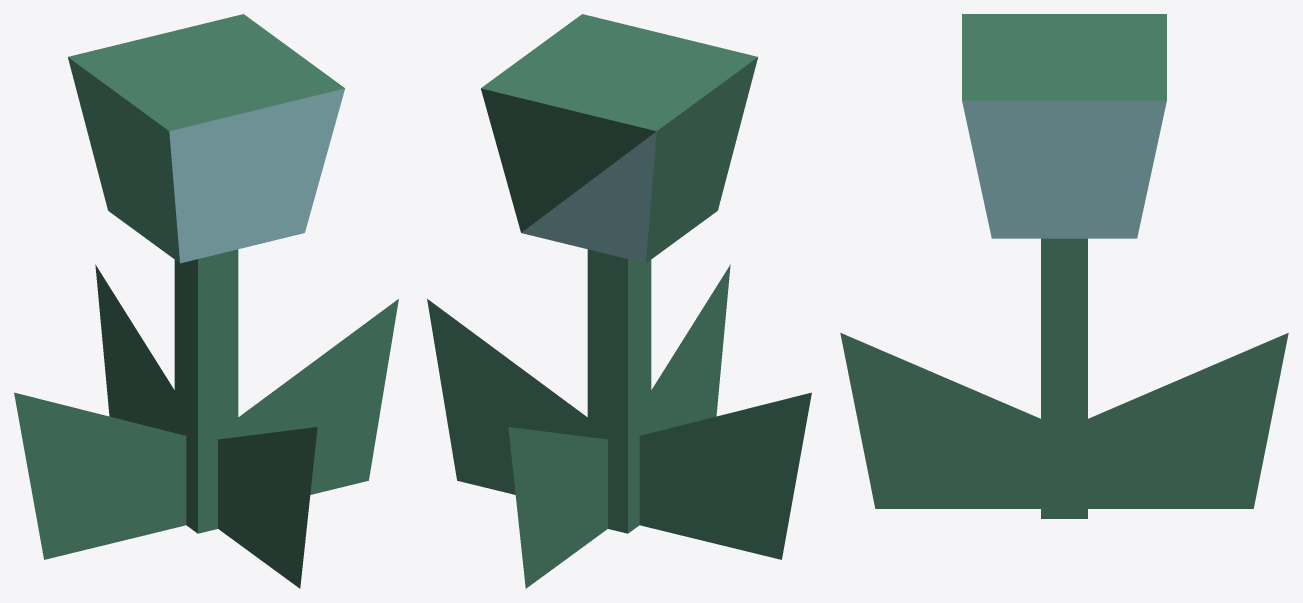
File: naturePack_flat_008.obj
3 renders of one model, left to right at view 1: azimuth 30°, elevation 25°; view 2: azimuth 150°, elevation 25°; view 3: azimuth 270°, elevation 25°, orthographic.
Visible parts, largest first — view 1: Mesh1_Flower_Tall_Yellow_Model.001, Mesh2_Flower_Tall_Yellow_Model.001, Mesh5_Flower_Tall_Yellow_Model.001, Mesh3_Flower_Tall_Yellow_Model.001, Mesh4_Flower_Tall_Yellow_Model.001; view 2: Mesh1_Flower_Tall_Yellow_Model.001, Mesh2_Flower_Tall_Yellow_Model.001, Mesh5_Flower_Tall_Yellow_Model.001, Mesh4_Flower_Tall_Yellow_Model.001, Mesh3_Flower_Tall_Yellow_Model.001; view 3: Mesh1_Flower_Tall_Yellow_Model.001, Mesh4_Flower_Tall_Yellow_Model.001, Mesh3_Flower_Tall_Yellow_Model.001.
Boxes of the visible parts, x1=… form: Mesh1_Flower_Tall_Yellow_Model.001: x1=68, y1=14, x2=344, y2=533; Mesh2_Flower_Tall_Yellow_Model.001: x1=14, y1=392, x2=186, y2=559; Mesh5_Flower_Tall_Yellow_Model.001: x1=238, y1=299, x2=398, y2=494; Mesh3_Flower_Tall_Yellow_Model.001: x1=218, y1=427, x2=317, y2=588; Mesh4_Flower_Tall_Yellow_Model.001: x1=95, y1=264, x2=174, y2=432; Mesh1_Flower_Tall_Yellow_Model.001: x1=481, y1=14, x2=757, y2=533; Mesh2_Flower_Tall_Yellow_Model.001: x1=639, y1=392, x2=811, y2=559; Mesh5_Flower_Tall_Yellow_Model.001: x1=427, y1=299, x2=587, y2=494; Mesh4_Flower_Tall_Yellow_Model.001: x1=508, y1=427, x2=607, y2=588; Mesh3_Flower_Tall_Yellow_Model.001: x1=651, y1=264, x2=730, y2=432; Mesh1_Flower_Tall_Yellow_Model.001: x1=962, y1=14, x2=1166, y2=518; Mesh4_Flower_Tall_Yellow_Model.001: x1=1088, y1=333, x2=1288, y2=508; Mesh3_Flower_Tall_Yellow_Model.001: x1=840, y1=333, x2=1040, y2=508.
Size of the model in its own units: 0.4859 by 0.54 by 0.4859.
